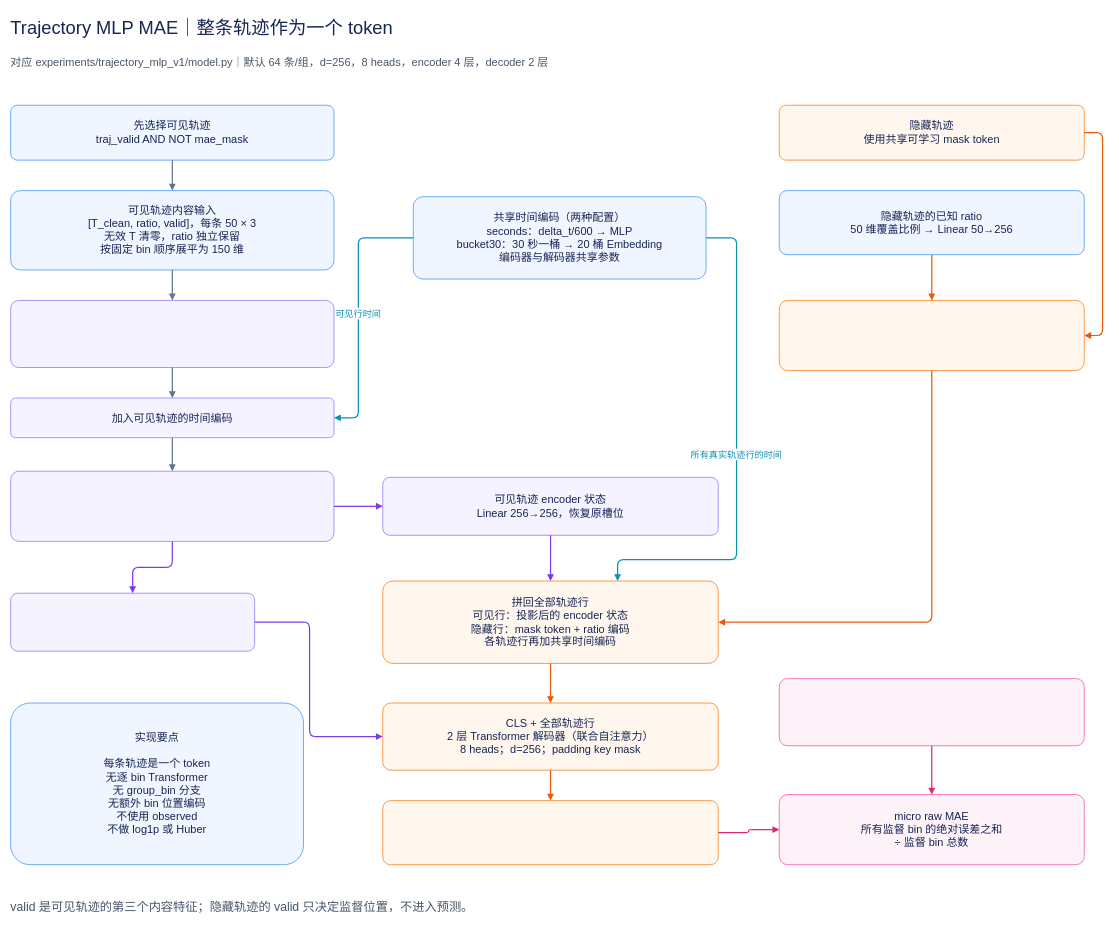
Image size: 1119x930. Some labels were removed from this diagram. The centre of each missing label's shape, as x and y in pixels:
CLS + 可见轨迹 tokens 4 层 Transformer Encoder → LN 8 heads；d=256；FFN=1024: the point at 172,506
CLS encoder 状态 Linear 256→256: the point at 132,621
取轨迹位置的输出 → LN → Linear 256→50 → Softplus 预测原始非负秒数：[B, M, 50]: the point at 550,832
真实原始秒数，仅用于监督 traj_valid AND mae_mask AND bin_valid: the point at 931,712
轨迹 MLP Linear 150→256 → GELU → LN → Dropout → Linear 256→256: the point at 172,334
隐藏行条件 token mask token + ratio 编码 不输入隐藏耗时与隐藏 bin_valid: the point at 931,335
